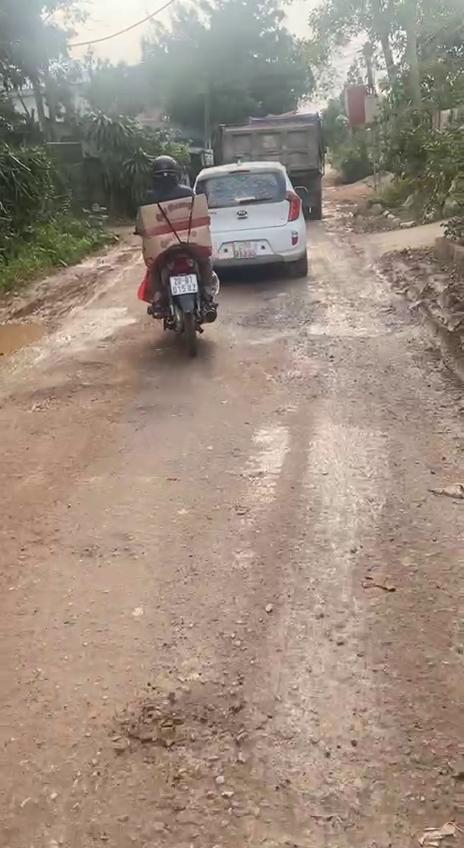pothole: (241, 299, 405, 341), (0, 303, 67, 358)
